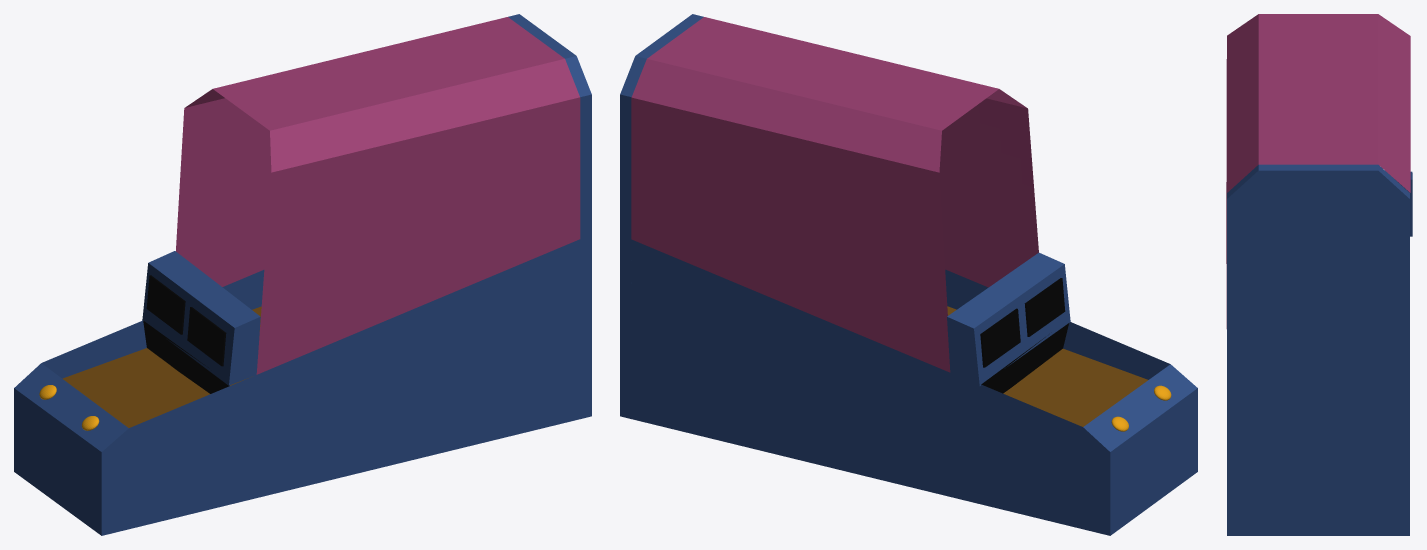
File: Arcade_machine.glb
The picture shows the model from 3 angles, left to right: view 1: azimuth 30°, elevation 25°; view 2: azimuth 150°, elevation 25°; view 3: azimuth 270°, elevation 25°; orthographic projection. The views are drawn at different scales.
Parts seen in each view (by area): view 1: Cage, Arcade, Ramp, Separate, Timer, Score; view 2: Cage, Arcade, Ramp, Separate, Score, Timer; view 3: Arcade, Cage.
Boxes of the visible parts, x1=… form: Cage: x1=176, y1=17, x2=580, y2=374; Arcade: x1=14, y1=14, x2=591, y2=535; Ramp: x1=62, y1=306, x2=261, y2=427; Separate: x1=143, y1=320, x2=229, y2=393; Timer: x1=187, y1=307, x2=226, y2=366; Score: x1=146, y1=275, x2=185, y2=334; Cage: x1=631, y1=17, x2=1038, y2=372; Arcade: x1=620, y1=14, x2=1197, y2=535; Ramp: x1=947, y1=306, x2=1147, y2=426; Separate: x1=981, y1=323, x2=1068, y2=393; Score: x1=980, y1=308, x2=1020, y2=367; Timer: x1=1024, y1=278, x2=1065, y2=336; Arcade: x1=1227, y1=164, x2=1412, y2=535; Cage: x1=1226, y1=14, x2=1410, y2=328.
Bounding box in the file's own units: 6.46 × 4.4 × 2.03.
Materials: 11 (2 with a texture image).
